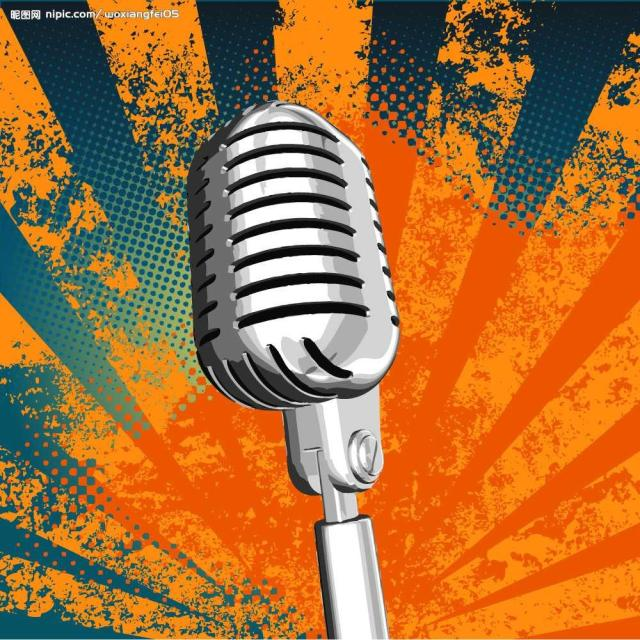microphone: (178, 90, 432, 520)
